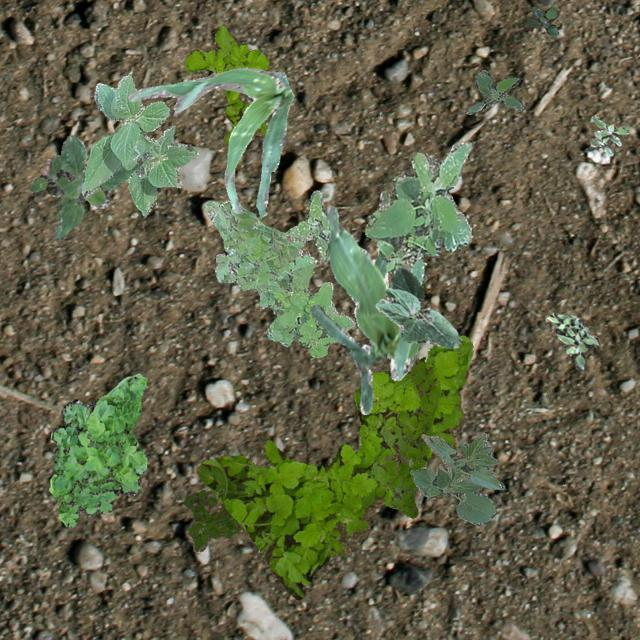crop: (308, 186, 419, 414), (128, 66, 294, 216), (80, 70, 196, 214), (408, 432, 504, 524), (374, 266, 460, 348)
weed: (195, 334, 472, 598), (204, 200, 354, 356), (364, 138, 472, 284), (48, 372, 146, 526), (30, 134, 140, 240), (372, 356, 439, 516), (185, 23, 268, 146), (182, 488, 240, 550), (286, 190, 330, 262), (546, 312, 598, 369), (464, 68, 522, 114), (588, 114, 628, 154), (526, 4, 558, 36)
